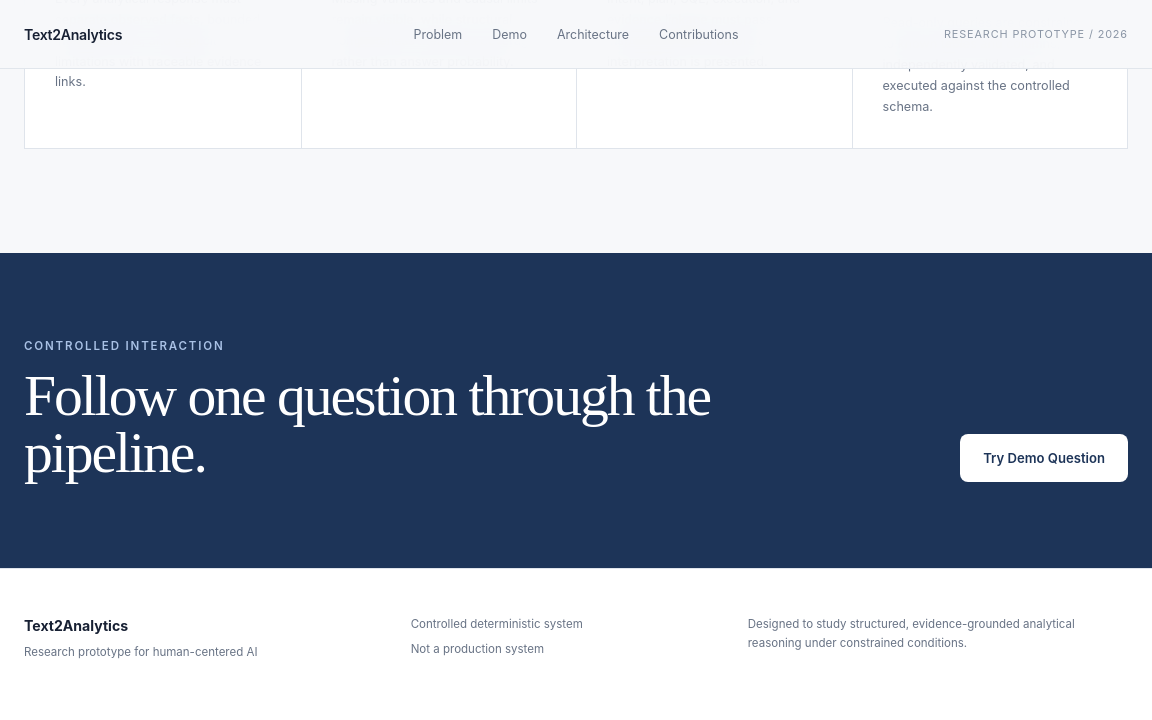
it: Text2Analytics portfolio page › fills the controlled demo question
The width and height of the screenshot is (1152, 720).
(page scrolled)
What coordinates should you click on to do the following:
click the button "Try Demo Question"
I would click on:
 (1044, 458)
Its box is [960,434,1128,482].
(page scrolled)
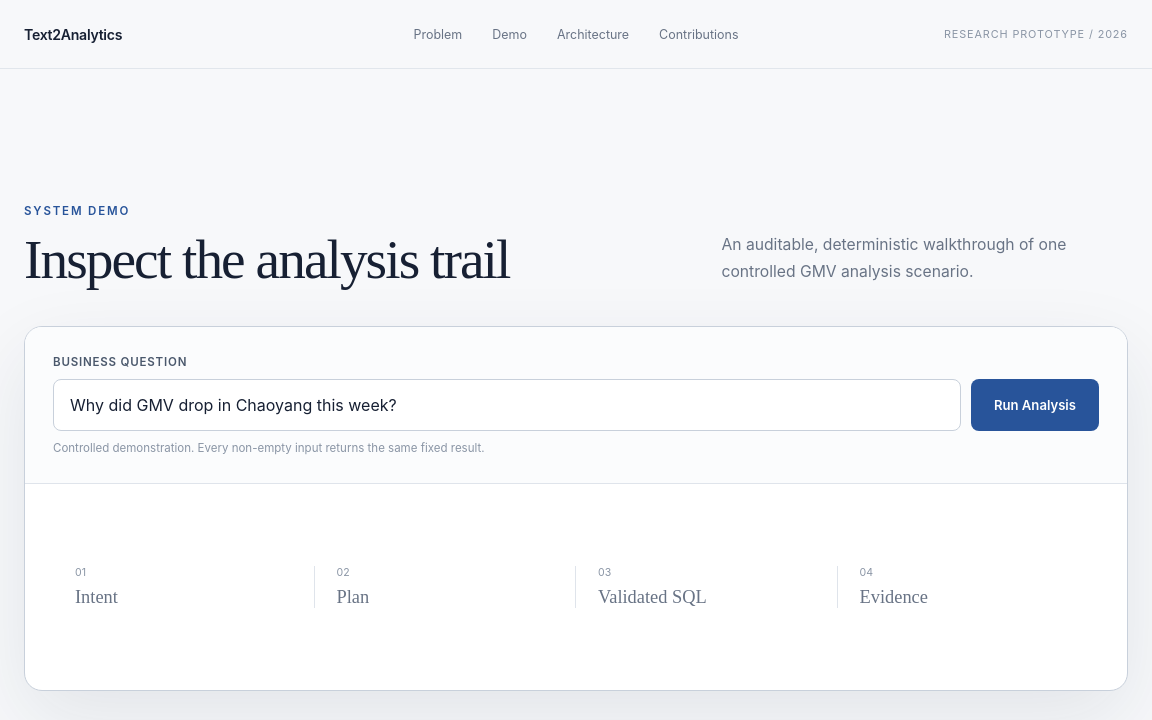
Expected: the field labelled "Business Question" holds "Why did GMV drop in Chaoyang this week?", [53,379,961,431]
